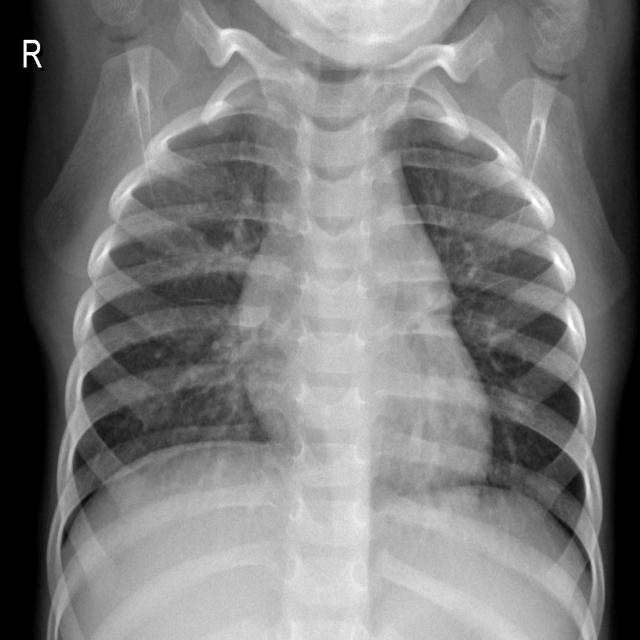normal_lung: (9, 7, 640, 640)
